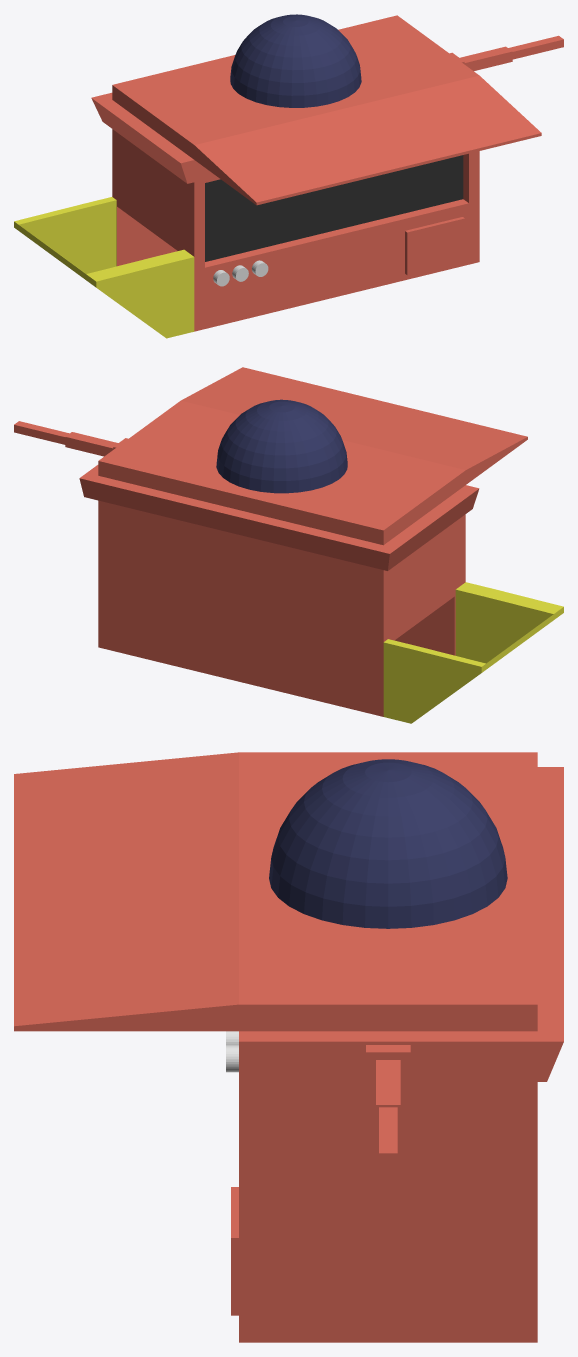
File: craft bench.fbx
3 renders of one model, top to bottom at view 1: azimuth 30°, elevation 25°; view 2: azimuth 150°, elevation 25°; view 3: azimuth 270°, elevation 25°, orthographic. The views are drawn at different scales.
Visible parts, largest first — view 1: building, screen, hopper, Sphere; view 2: building, hopper, Sphere; view 3: building, Sphere.
Part boxes in pixels (x1=…): building: x1=91, y1=15, x2=563, y2=331; screen: x1=205, y1=155, x2=463, y2=261; hopper: x1=14, y1=197, x2=194, y2=338; Sphere: x1=230, y1=14, x2=361, y2=107; building: x1=14, y1=367, x2=527, y2=716; hopper: x1=383, y1=582, x2=563, y2=723; Sphere: x1=216, y1=399, x2=347, y2=493; building: x1=14, y1=752, x2=563, y2=1342; Sphere: x1=269, y1=759, x2=507, y2=928.
Size of the model in its own units: 710 by 330 by 369.
